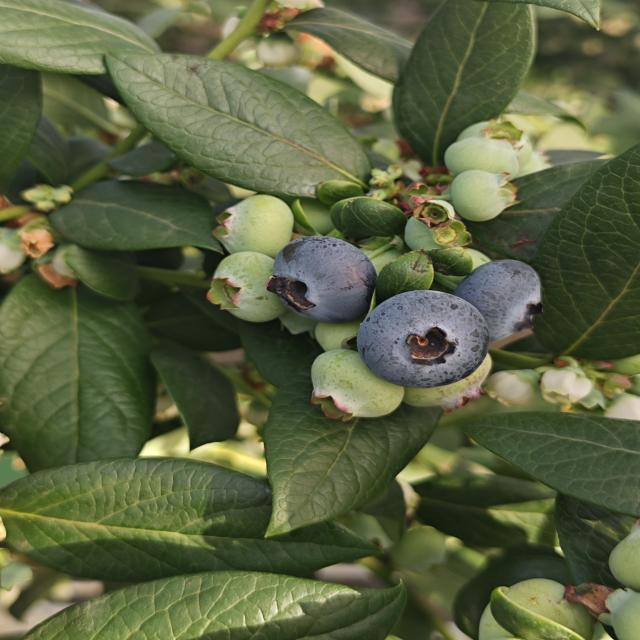ripe: (364, 294, 487, 382), (280, 228, 372, 318), (456, 261, 543, 331)
